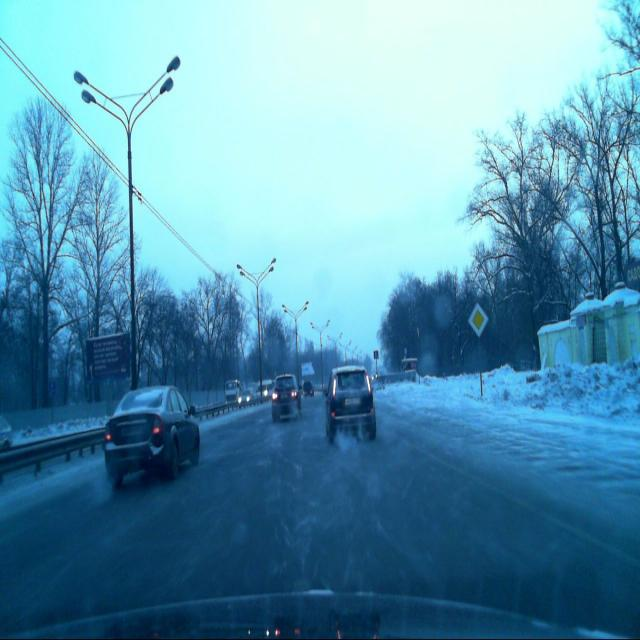object: (478, 340, 485, 398)
road sign: (468, 302, 488, 336)
